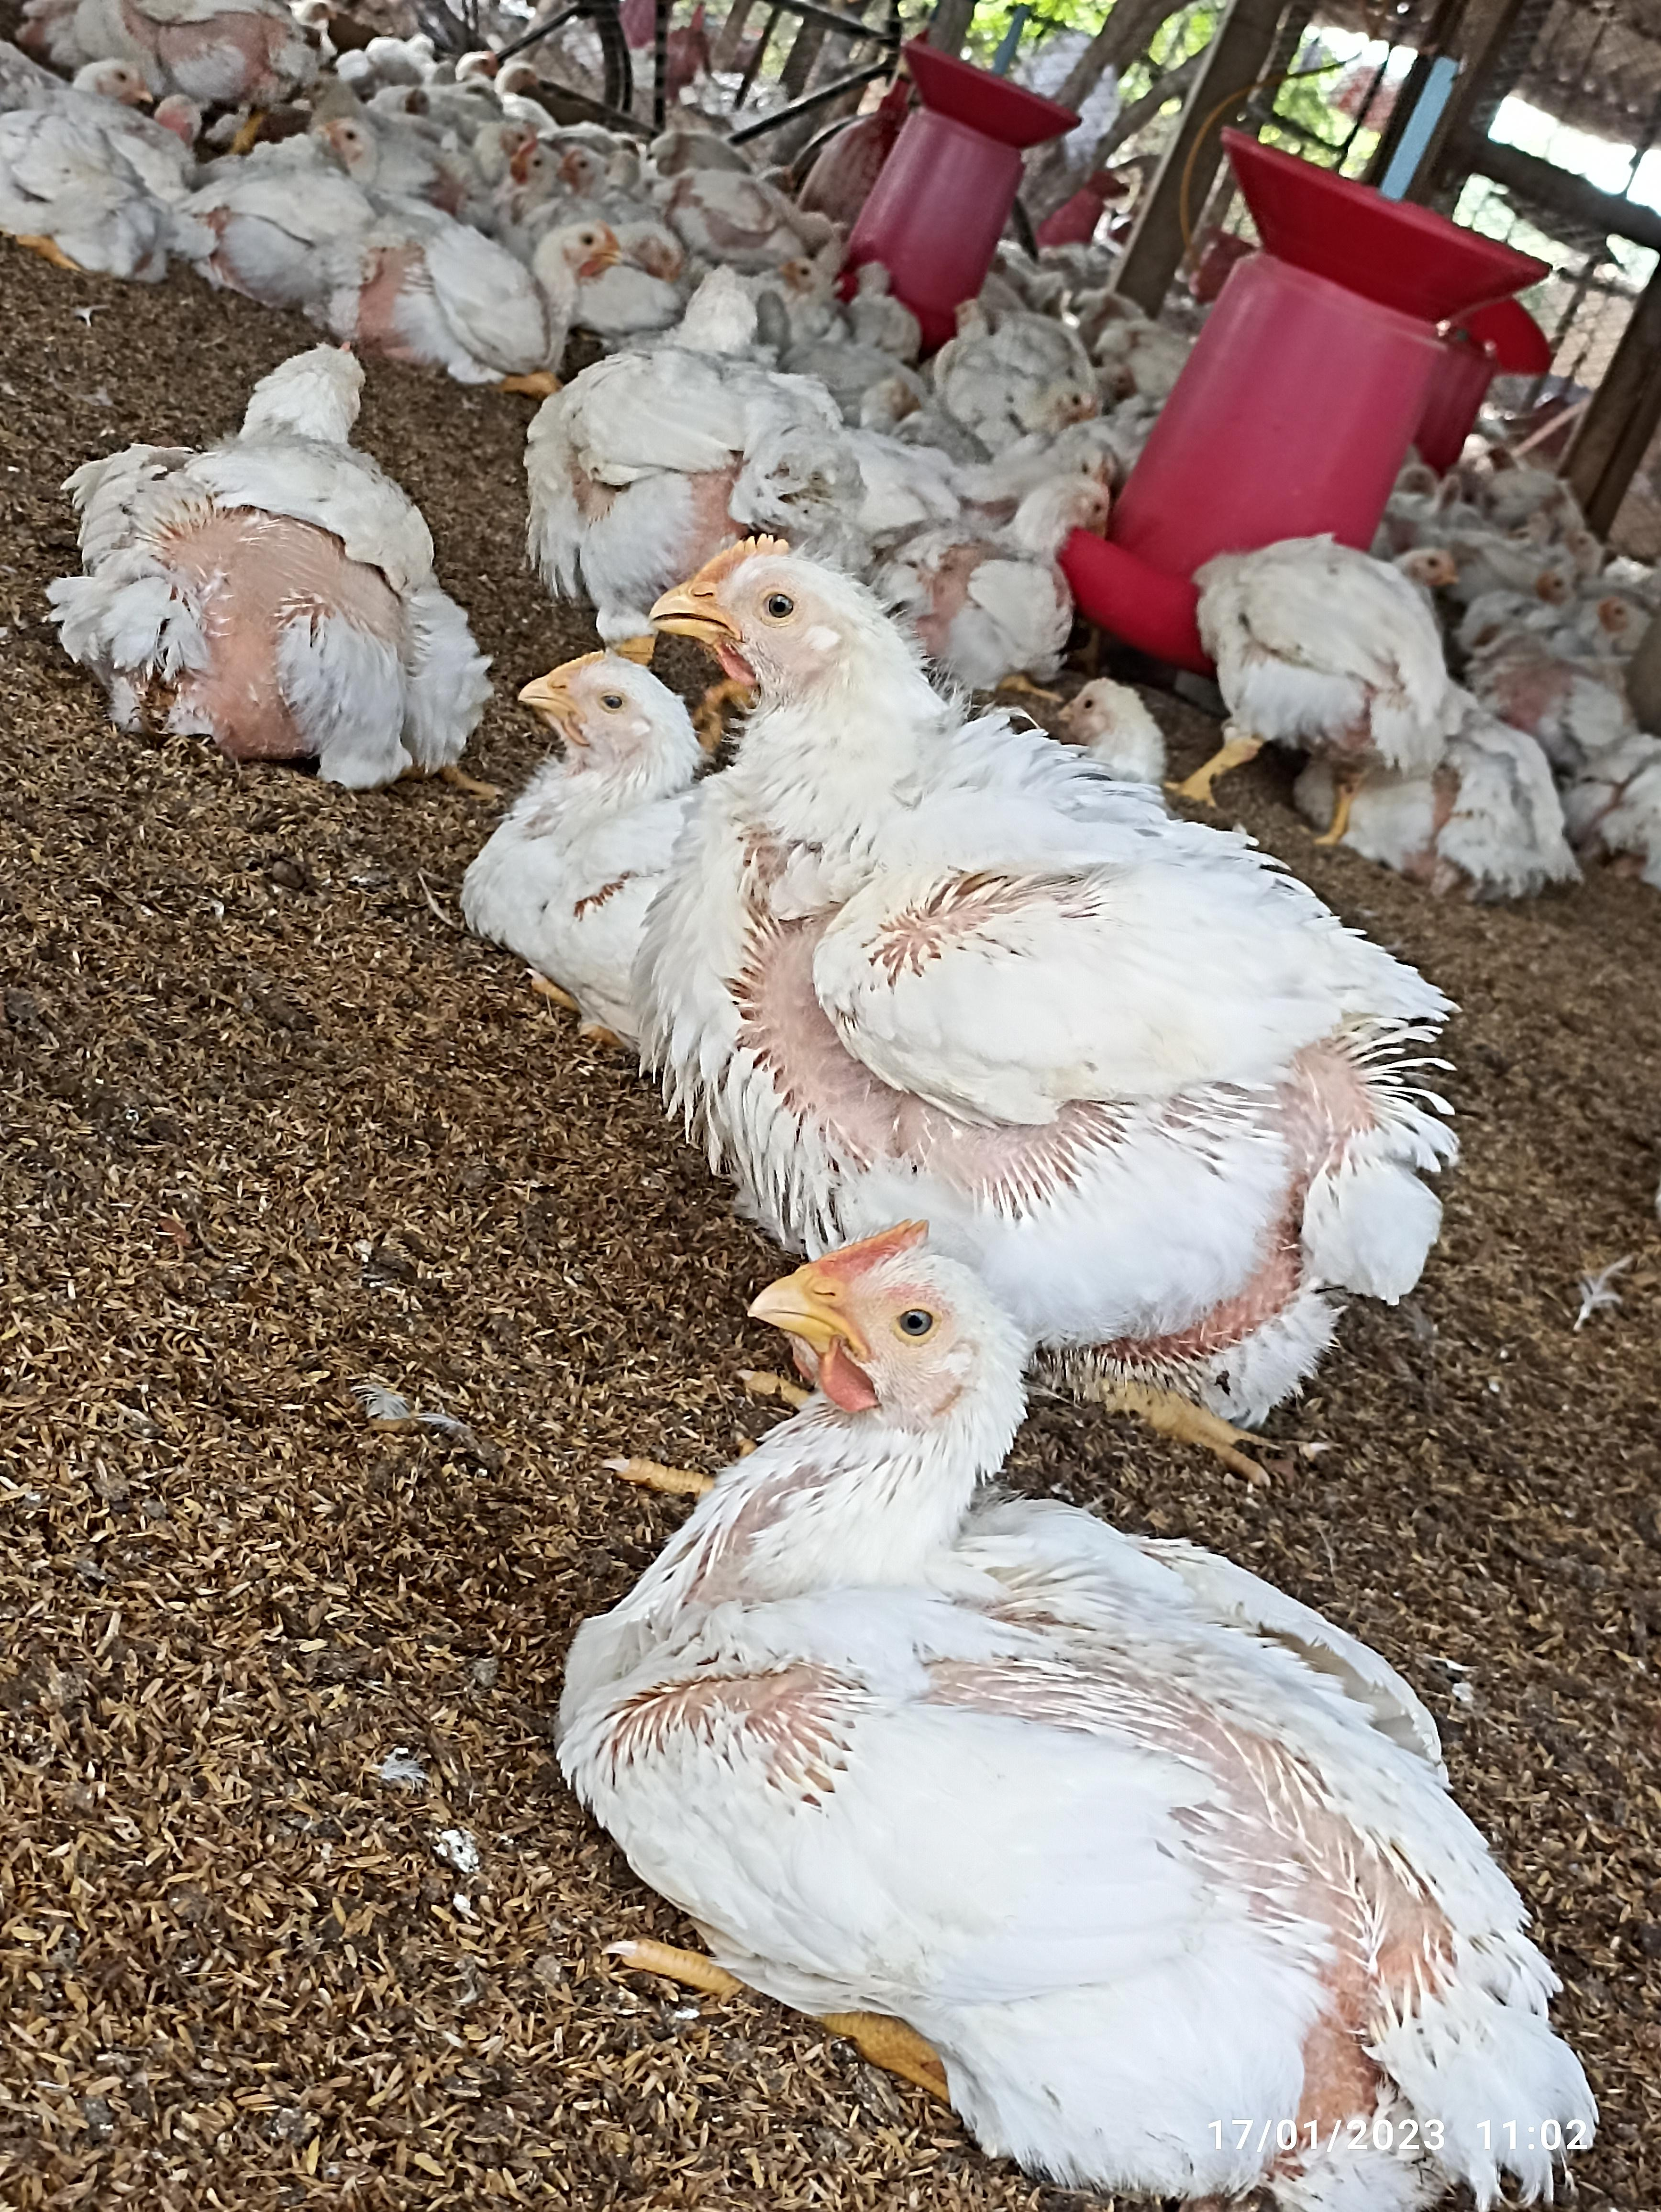Pollos: (700, 1232, 1553, 2140), (653, 527, 1342, 1221), (70, 340, 468, 769), (487, 644, 703, 961), (609, 256, 839, 506), (1237, 527, 1466, 766), (326, 206, 623, 354), (902, 462, 1122, 654)
